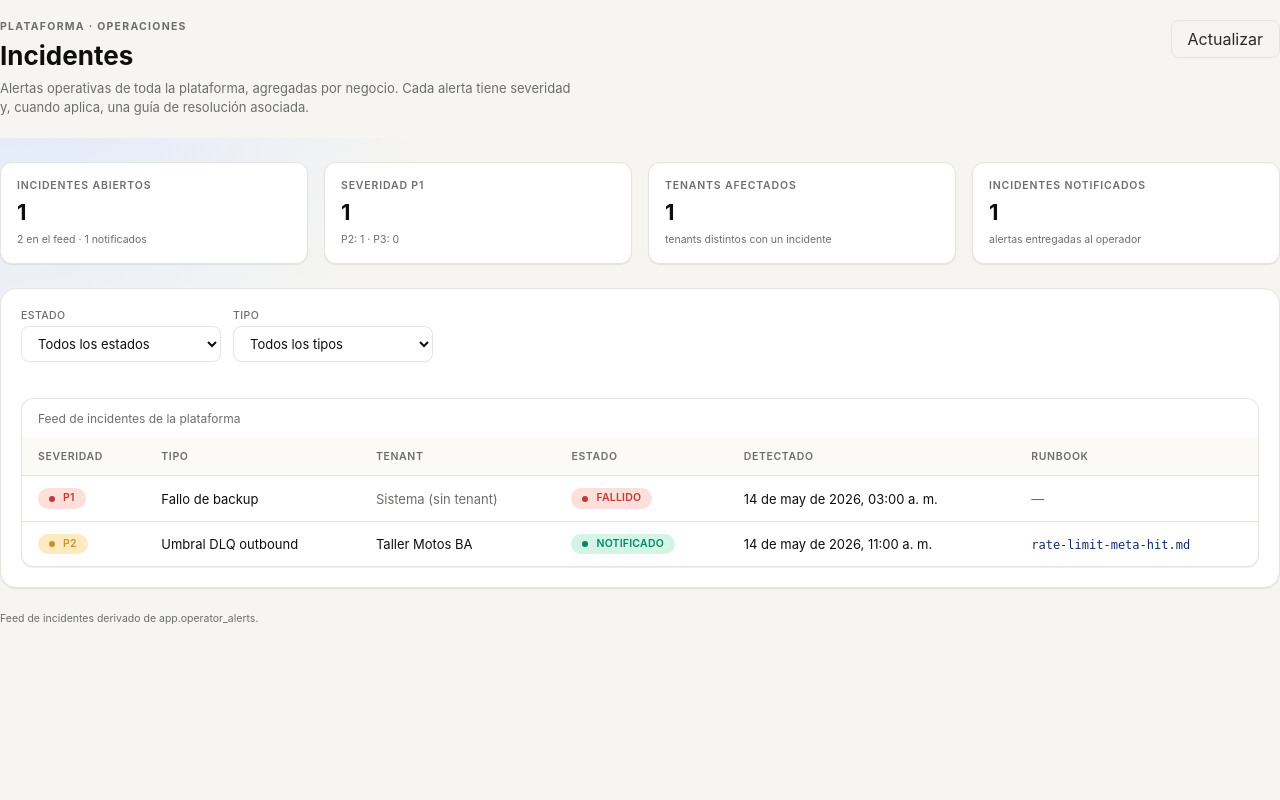
Test case: Incidents › opens the drawer with payload and delivery timeline on row click
The width and height of the screenshot is (1280, 800).
Step 1. Click the cell "Fallo de backup" → (253, 499), box [145,476,360,521]
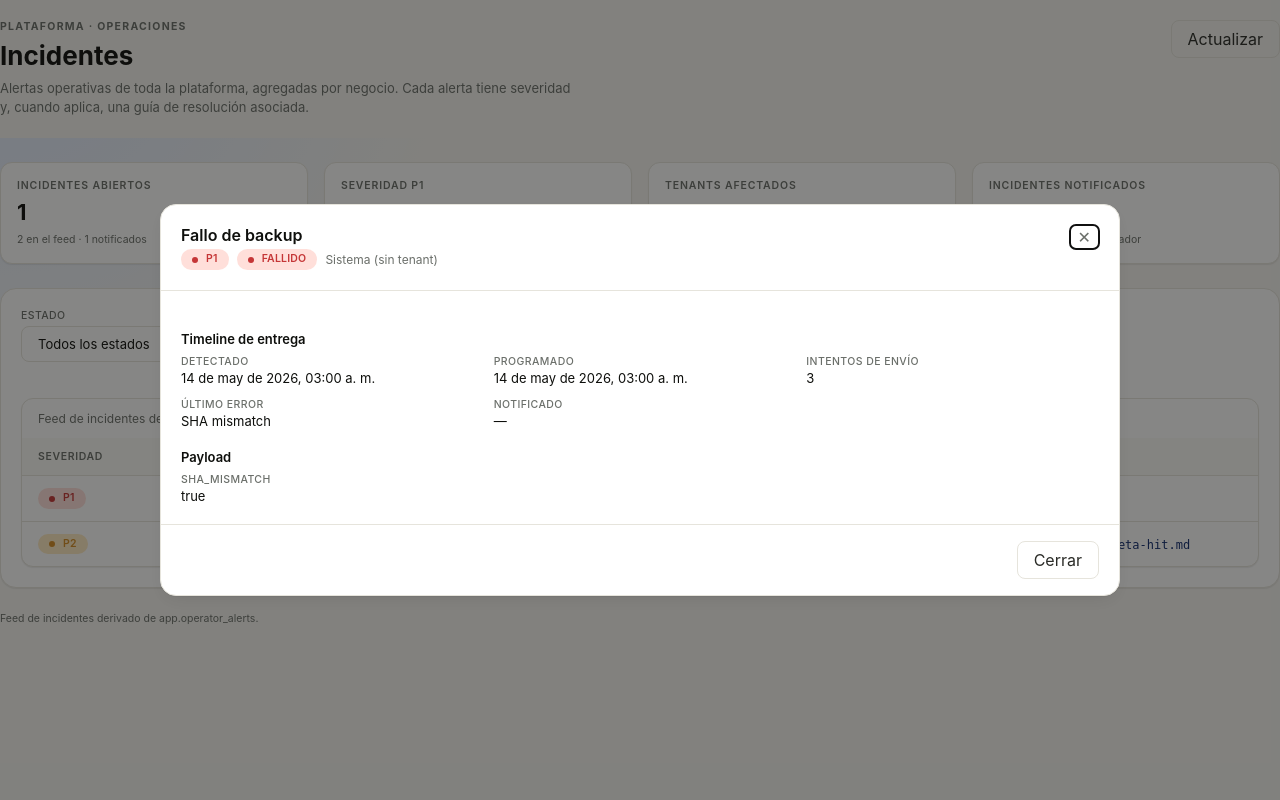
Expected: the dialog shows "Timeline de entrega", [181,331,306,347]
Expected: the dialog shows "SHA mismatch", [181,413,271,429]
Expected: the dialog shows "sha_mismatch", [181,473,271,486]
